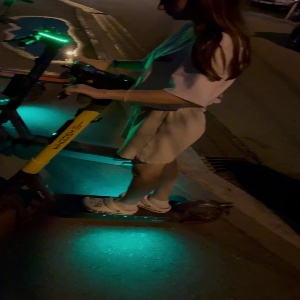human on a scooter: (1, 1, 251, 225)
